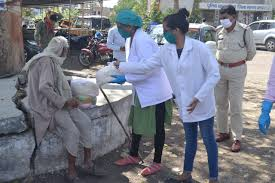mask: (158, 12, 183, 46), (215, 6, 235, 35), (113, 14, 135, 40), (55, 39, 71, 65)
